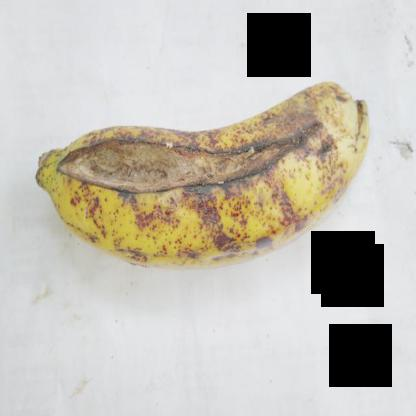rotten: (40, 77, 340, 267)
